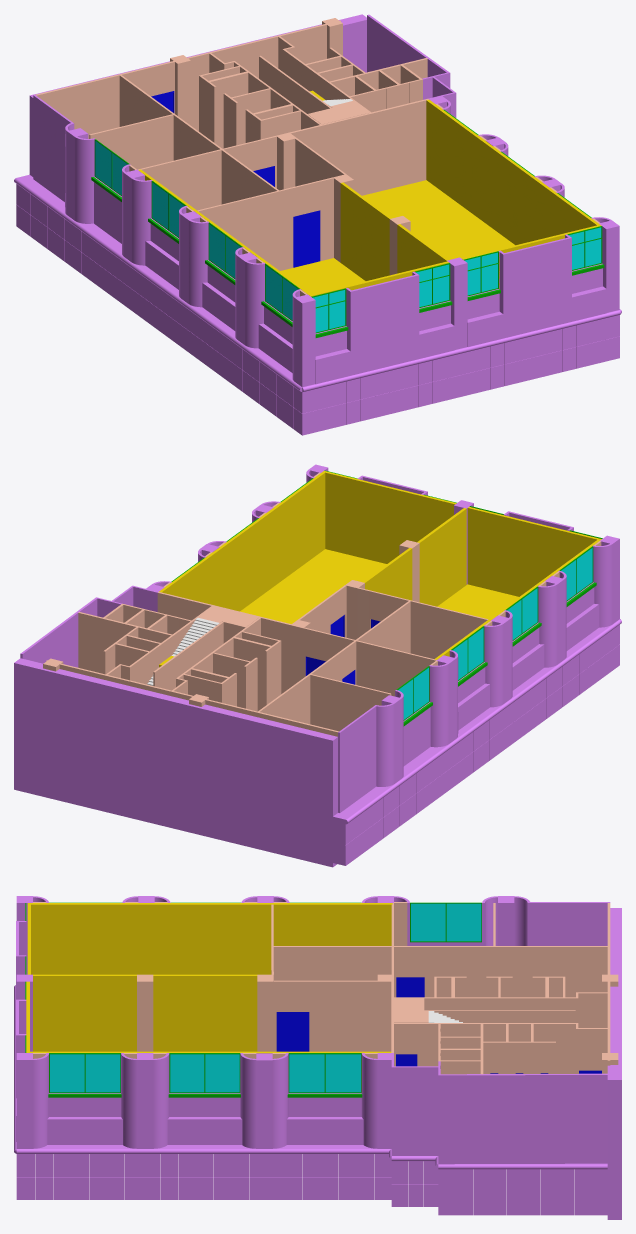
3 renders of one model, top to bottom at view 1: azimuth 30°, elevation 25°; view 2: azimuth 150°, elevation 25°; view 3: azimuth 270°, elevation 25°, orthographic. The views are drawn at different scales.
Parts seen in each view (by area): view 1: 物件_369; view 2: 物件_369; view 3: 物件_369.
Part boxes in pixels (<box>): 物件_369: <box>14,14,621,435</box>; 物件_369: <box>14,464,621,867</box>; 物件_369: <box>14,896,621,1219</box>.
Bounding box in the file's own units: 119 × 44.18 × 168.
